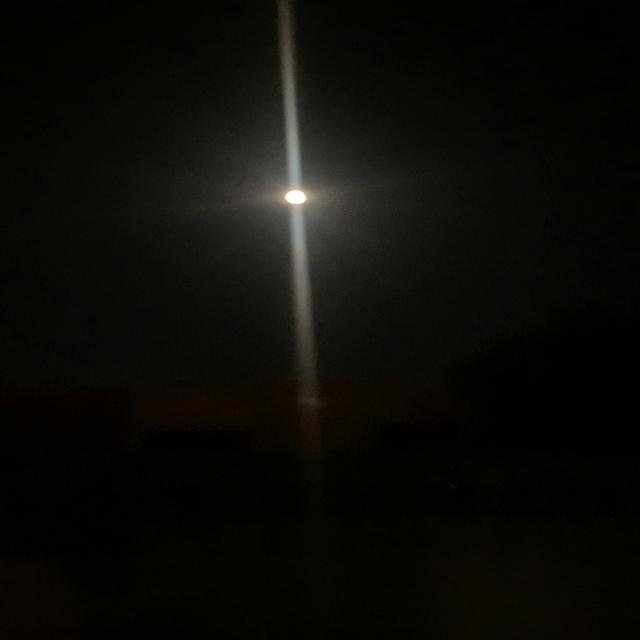moon: (266, 180, 330, 212)
